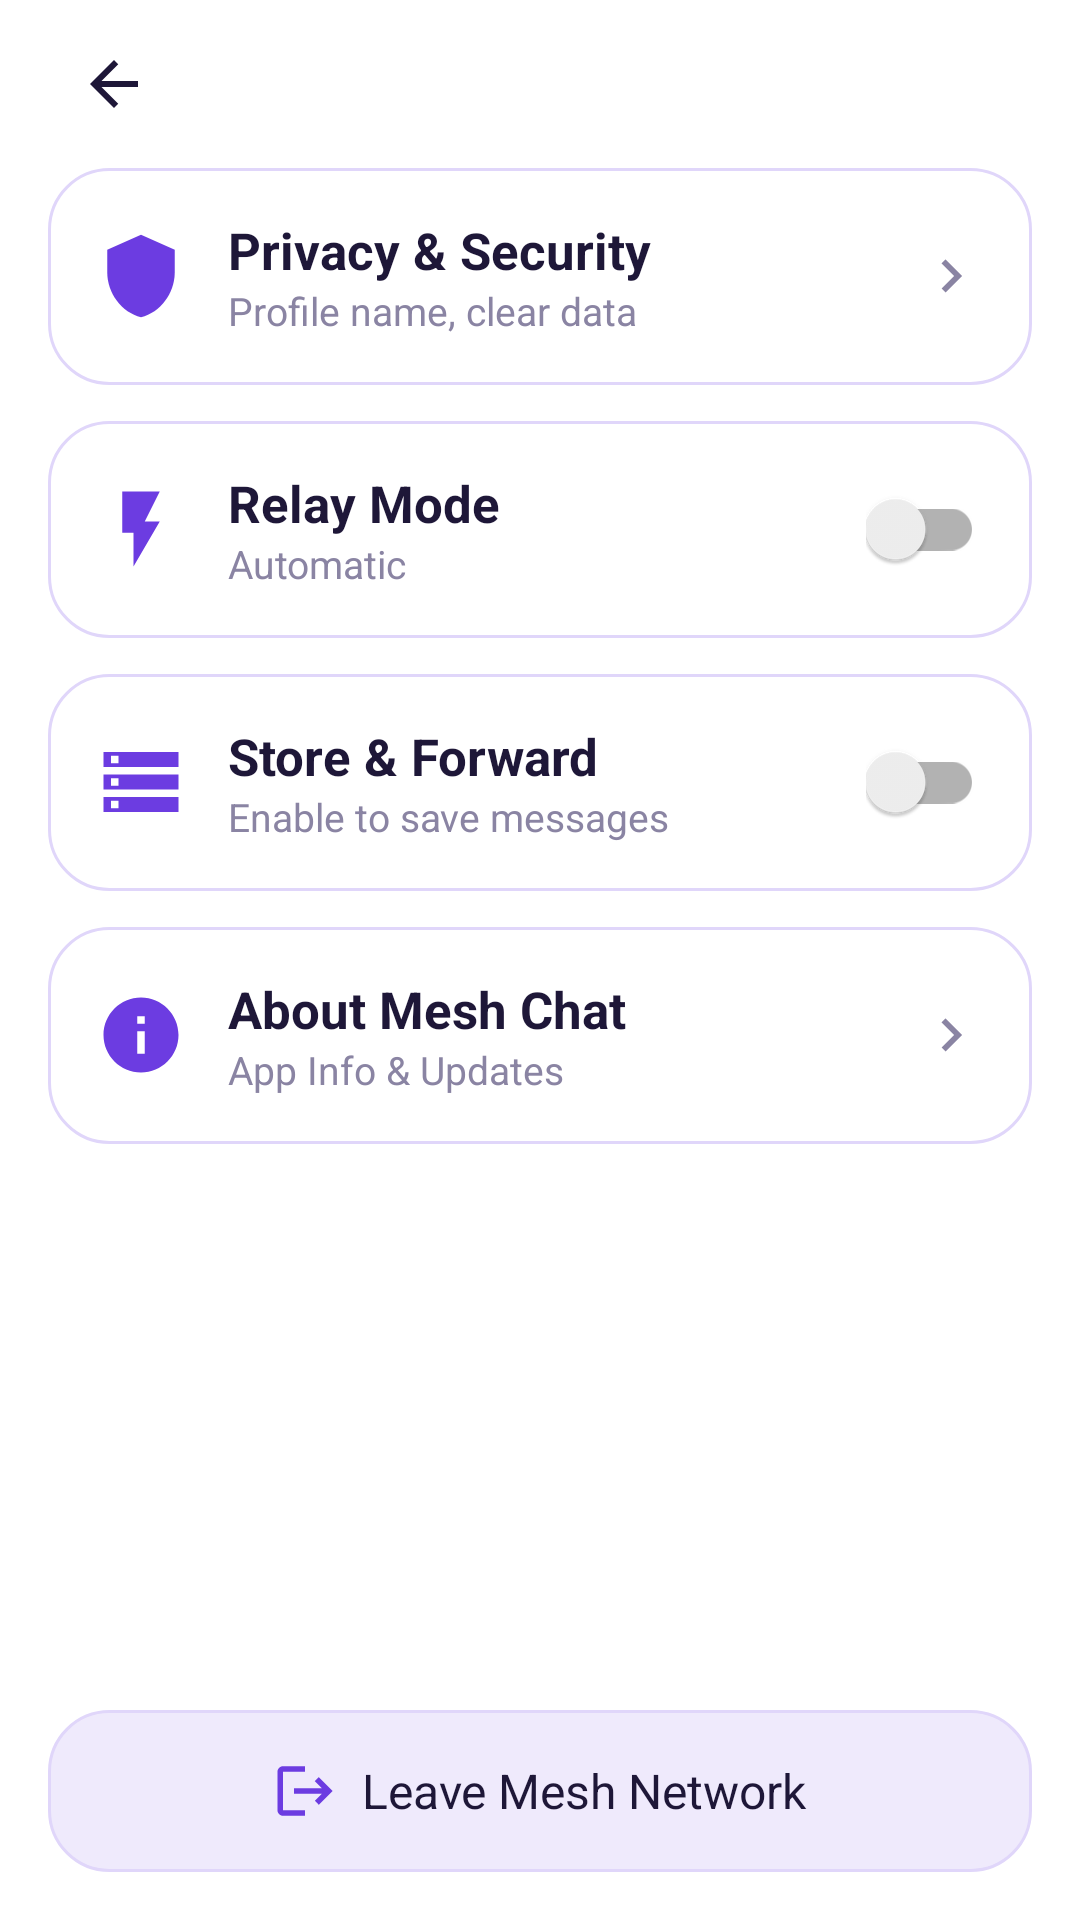

Named icons in this screenshot (1080x1920) and their bounding boxes, BBox(x1, y1, x2, y2):
back: BBox(90, 60, 138, 108)
bolt: BBox(122, 491, 160, 566)
chevron: BBox(941, 259, 962, 293), BBox(941, 1018, 962, 1052)
database: BBox(103, 752, 179, 812)
exit: BBox(277, 1766, 333, 1816)
shield: BBox(107, 235, 175, 317)
